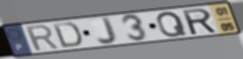3: (121, 13, 149, 44)
D: (51, 21, 84, 49)
J: (96, 16, 119, 46)
Q: (156, 10, 190, 39)
R: (181, 7, 220, 37), (23, 23, 61, 52)
